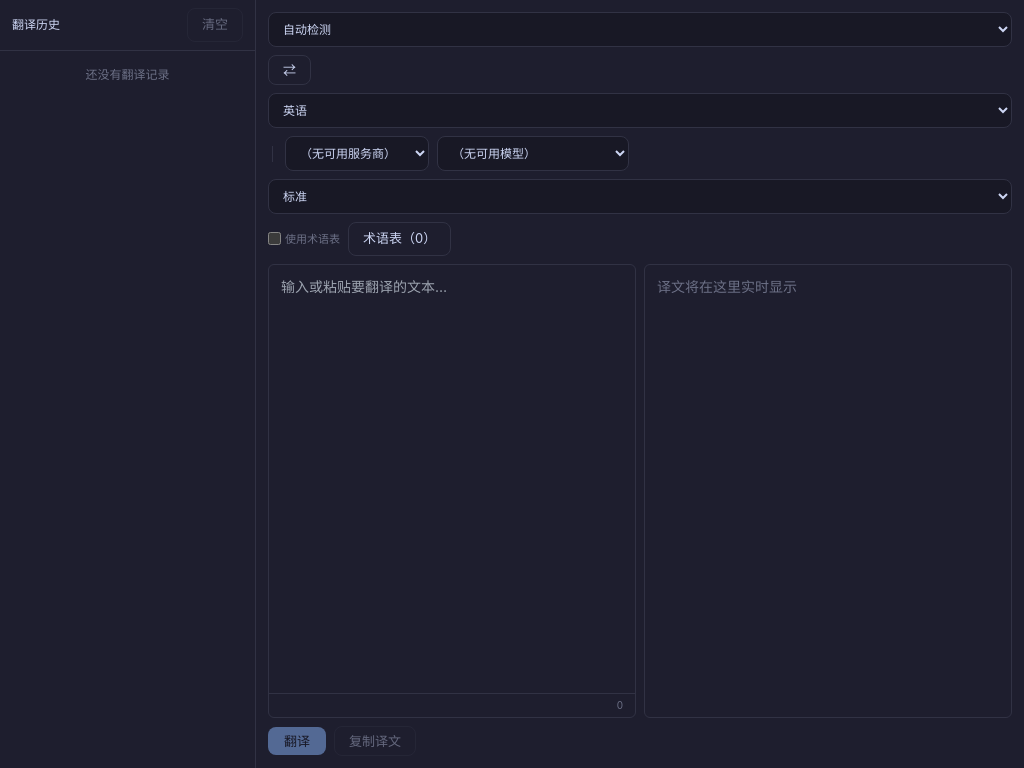
Test: 正向对照：成功仍然清空输入并落进列表（本批只该改失败那一半） › saveGlossaryTerm 返回记录 ⇒ 两个框变空、列表出现该行、没有 toast
The width and height of the screenshot is (1024, 768).
Click the button "术语表（0）": (400, 239) [348,222,451,256]
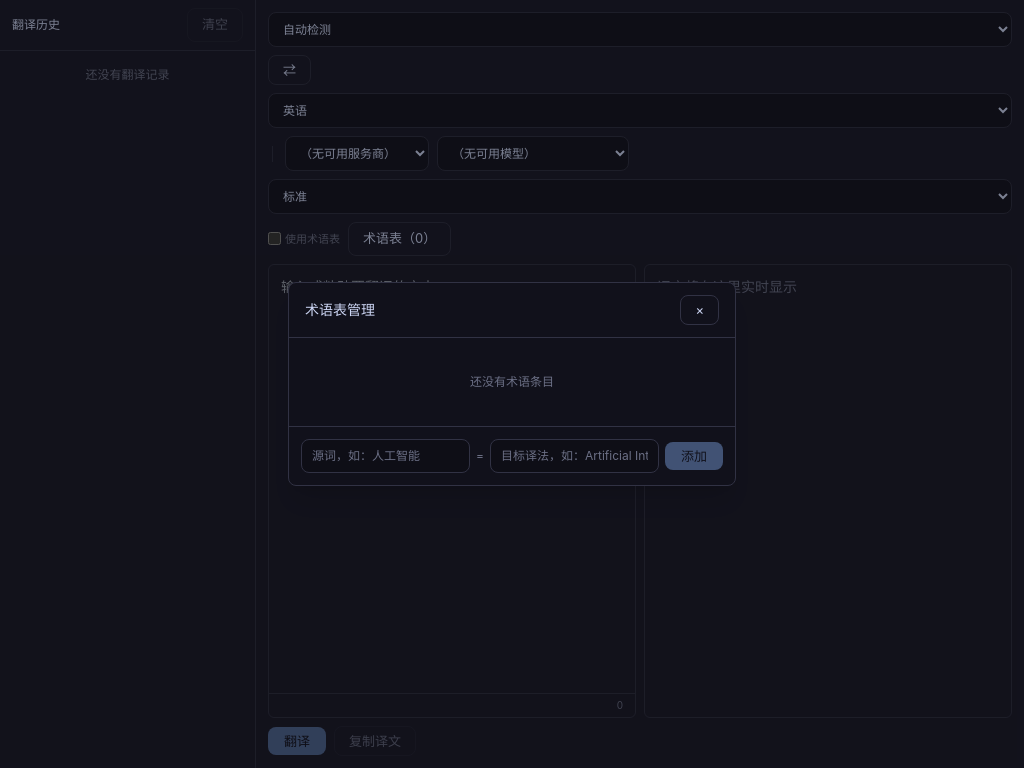
In the field with placeholder "源词，如：人工智能": (386, 456) [301,439,470,473], type "人工智能"
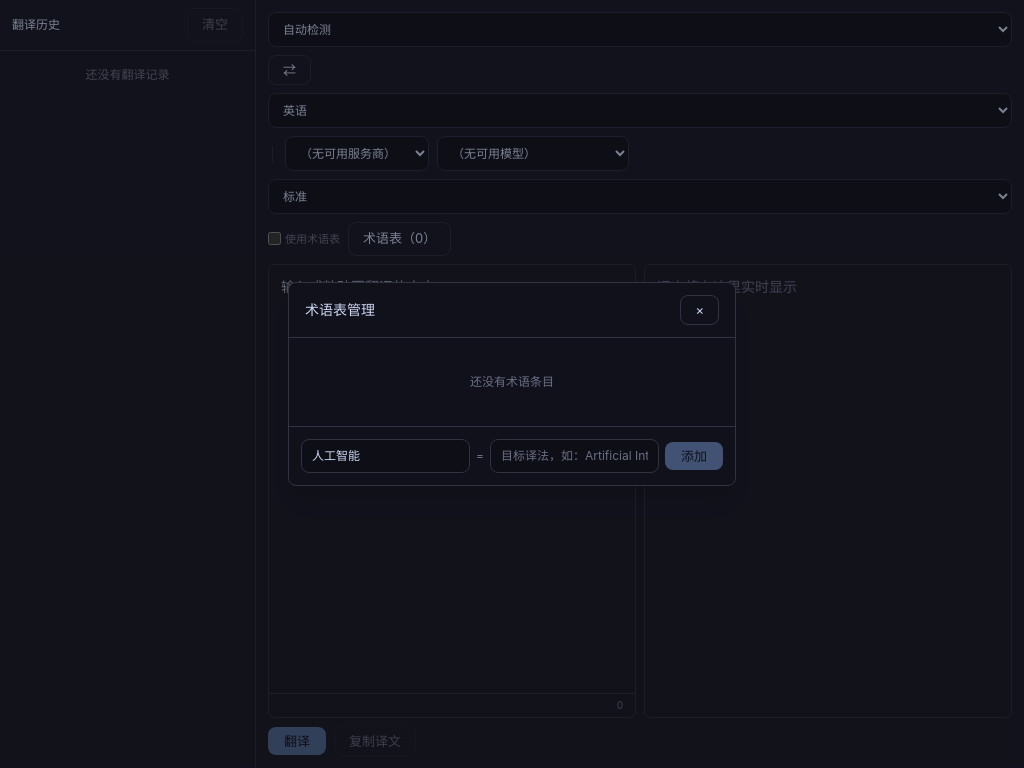
In the field with placeholder "目标译法，如：Artificial Intelligence": (574, 456) [490,439,659,473], type "Artificial Intelligence"
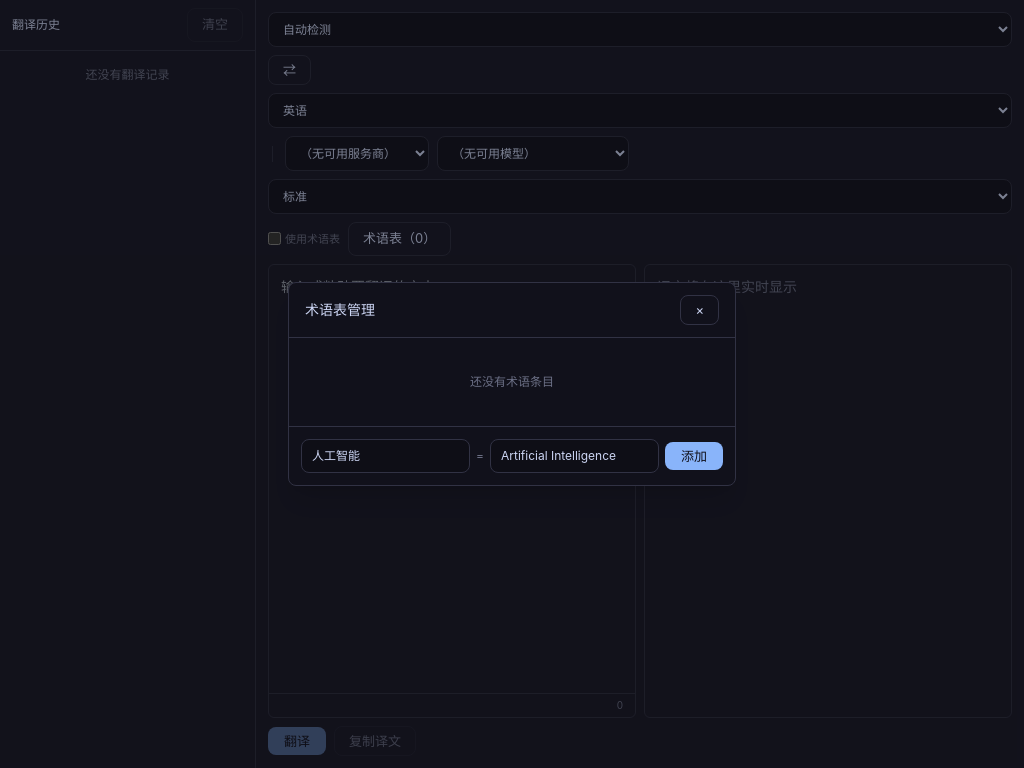
Click the button "添加": (694, 456) [665,442,723,470]
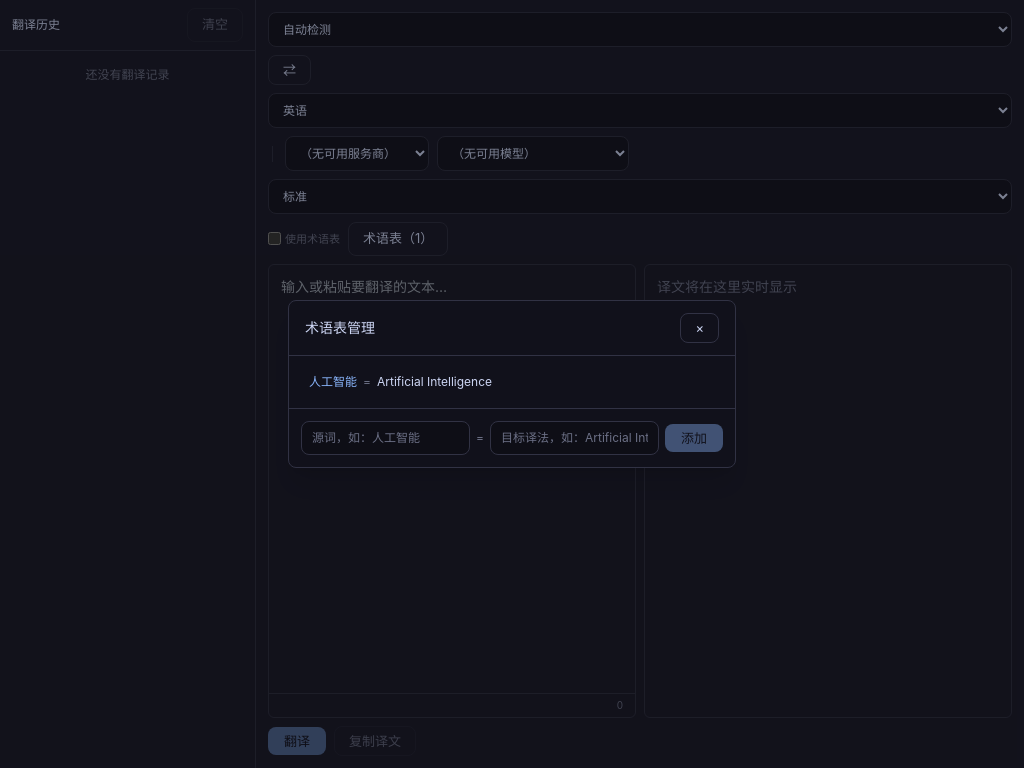
Result: the text "Artificial Intelligence" is shown at [377,374,492,389]
Result: the field with placeholder "源词，如：人工智能" is empty at [301,421,470,455]
Result: the field with placeholder "目标译法，如：Artificial Intelligence" is empty at [490,421,659,455]
